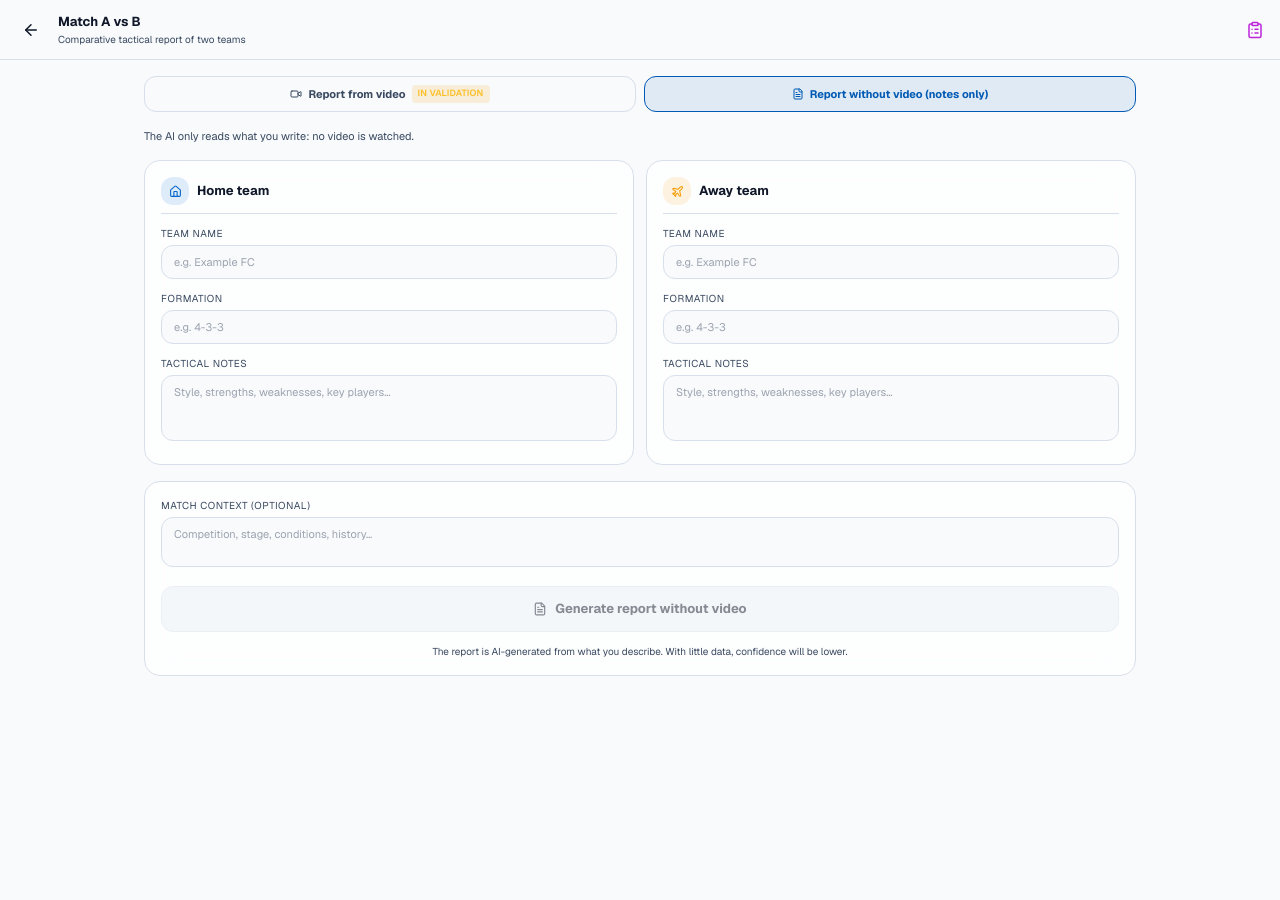
Scenario: MatchReportPage · default build (video analysis in validation) › the notes-only report works and passes the agent's source through
Type "CD Cantera" into the field with placeholder "e.g. Example FC" below "Home team" at x=389, y=262, box left=161, top=245, right=617, bottom=279
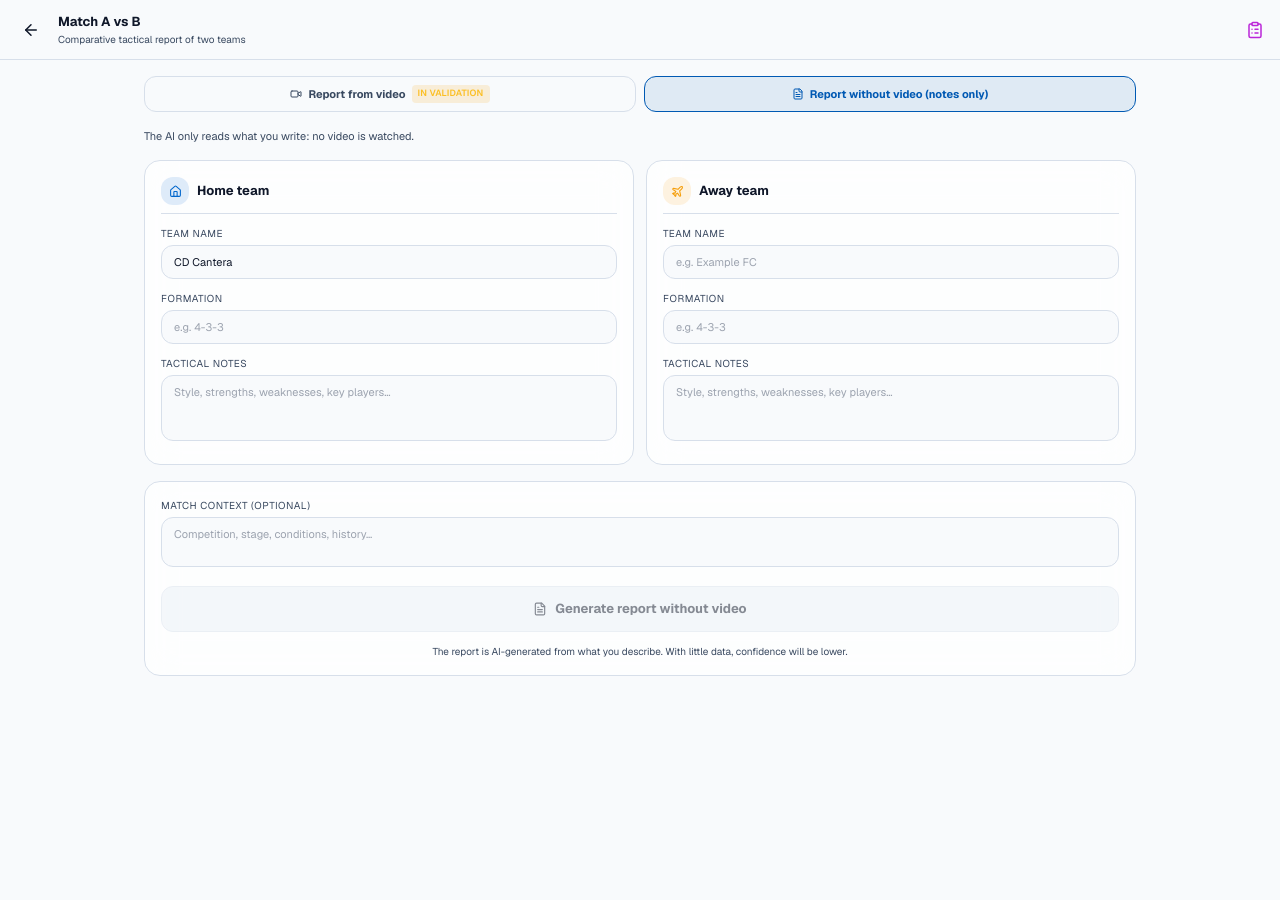
Type "Atlético Barrio" into the field with placeholder "e.g. Example FC" at x=891, y=262, box left=663, top=245, right=1119, bottom=279
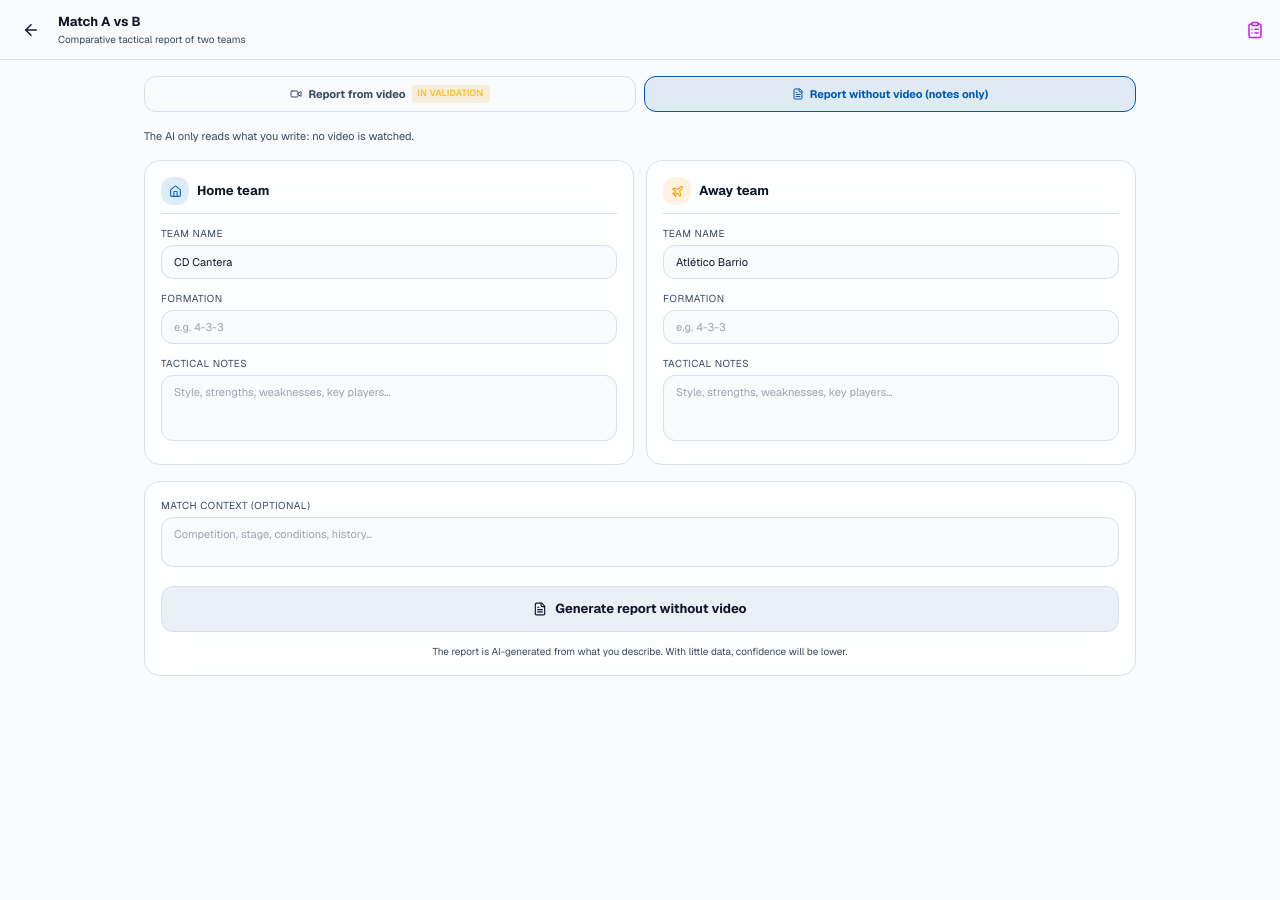
Click the button "Generate report without video" at x=640, y=609, box left=161, top=586, right=1119, bottom=632
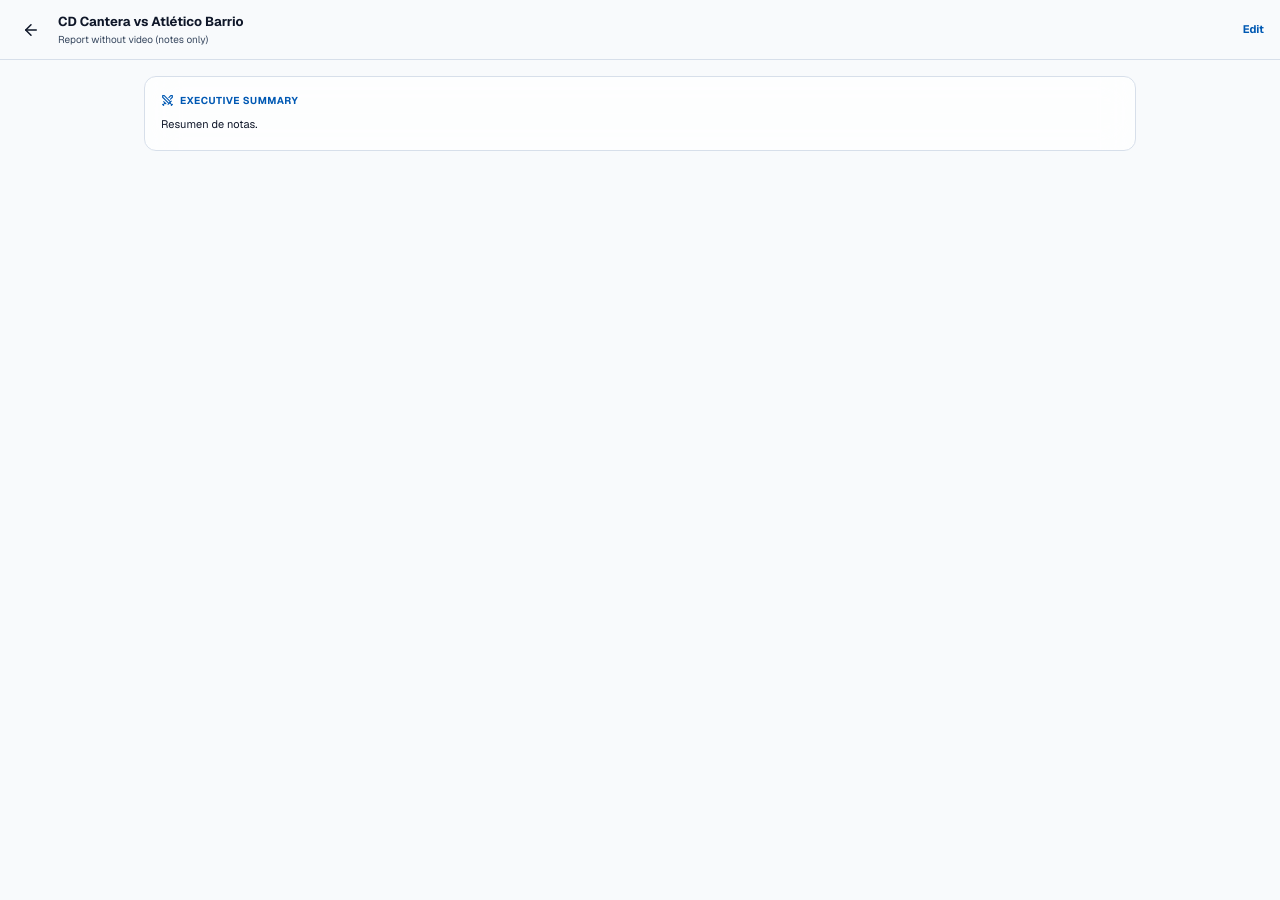
Expected: the text "Resumen de notas." is shown, left=161, top=117, right=258, bottom=131
Expected: the text "Report without video (notes only)" is shown, left=58, top=33, right=208, bottom=46
